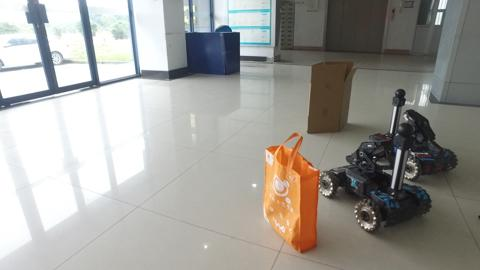bag: (262, 126, 323, 249)
box: (308, 56, 354, 132)
chariot: (320, 123, 433, 233), (384, 81, 457, 173)
